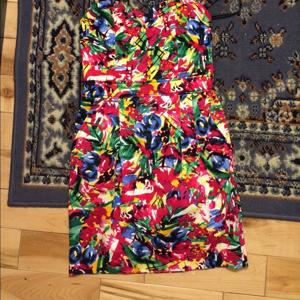C_dress: (58, 4, 256, 279)
